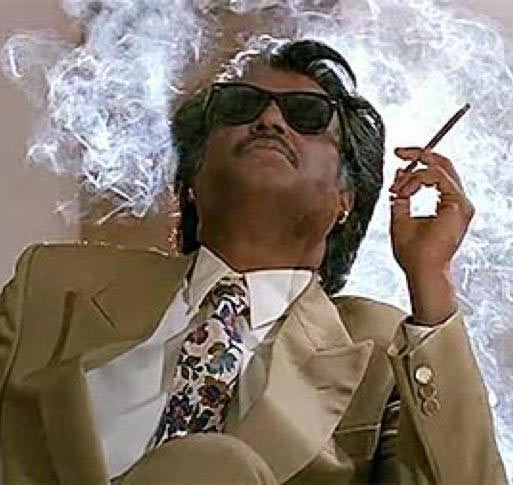cigarette: (392, 98, 475, 186)
